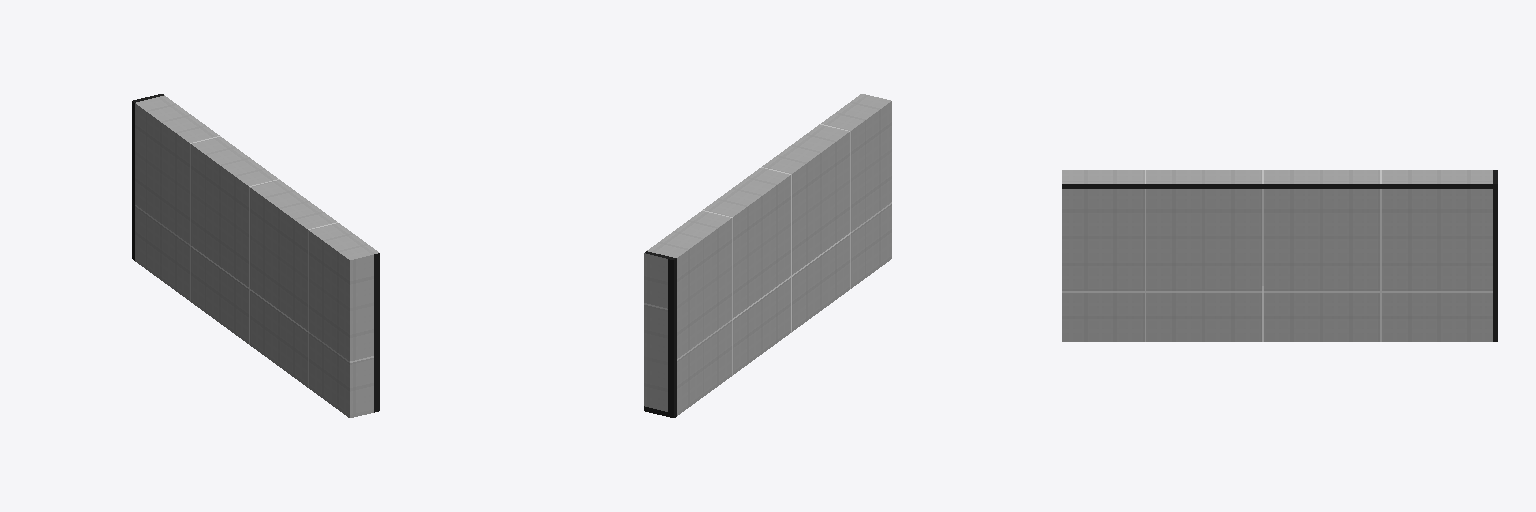
The picture shows the model from 3 angles: view 1: azimuth 30°, elevation 25°; view 2: azimuth 150°, elevation 25°; view 3: azimuth 270°, elevation 25°; orthographic projection.
Visible parts, largest first — view 1: Cube_Cube.001; view 2: Cube_Cube.001; view 3: Cube_Cube.001.
Boxes of the visible parts, x1,y1,x2,y2 form: Cube_Cube.001: [132, 94, 379, 417]; Cube_Cube.001: [644, 94, 891, 417]; Cube_Cube.001: [1062, 170, 1497, 341].
Bounding box in the file's own units: 1.6 × 8 × 20.
1 materials, 1 textured.